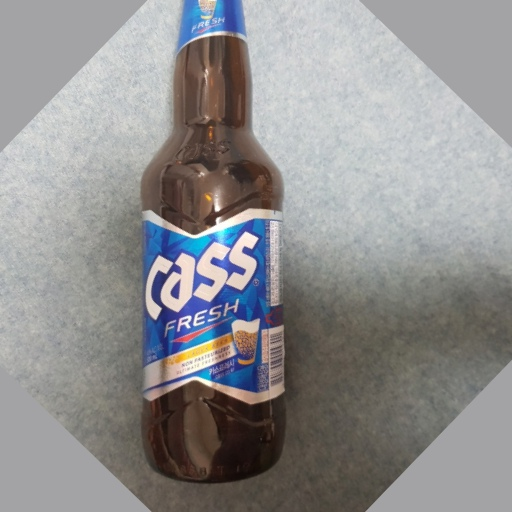Glass_1: (142, 1, 289, 482)
